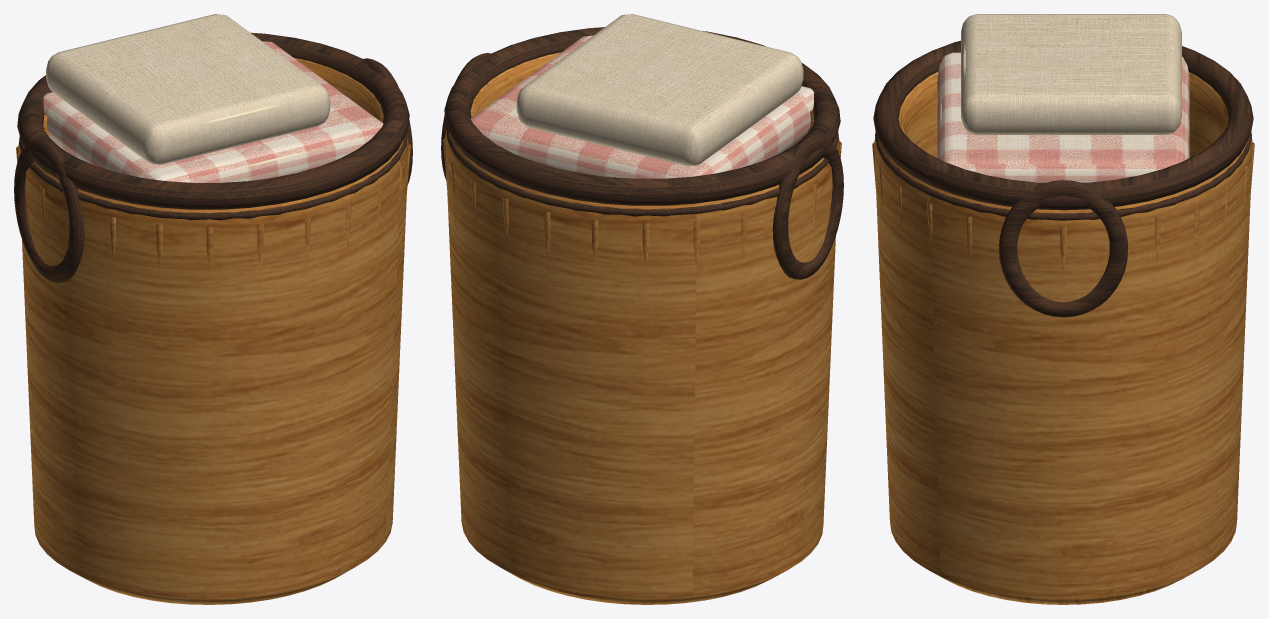
Rendered from SM_InteriorAdditions_LaundryHamper.fbx.
3 renders of one model, left to right at view 1: azimuth 30°, elevation 25°; view 2: azimuth 150°, elevation 25°; view 3: azimuth 270°, elevation 25°, orthographic.
Visible parts, largest first — view 1: SM_InteriorAdditions_LaundryHamper; view 2: SM_InteriorAdditions_LaundryHamper; view 3: SM_InteriorAdditions_LaundryHamper.
Boxes of the visible parts, <box> form: SM_InteriorAdditions_LaundryHamper: <box>14,14,412,604</box>; SM_InteriorAdditions_LaundryHamper: <box>441,14,843,604</box>; SM_InteriorAdditions_LaundryHamper: <box>872,14,1254,604</box>.
Size of what is drawn, in the model's own units: 48 by 46 by 63.
